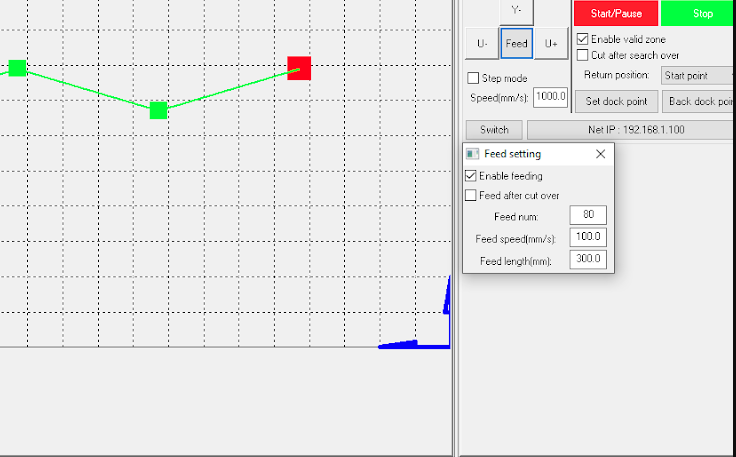start: (25, 172, 408, 223)
